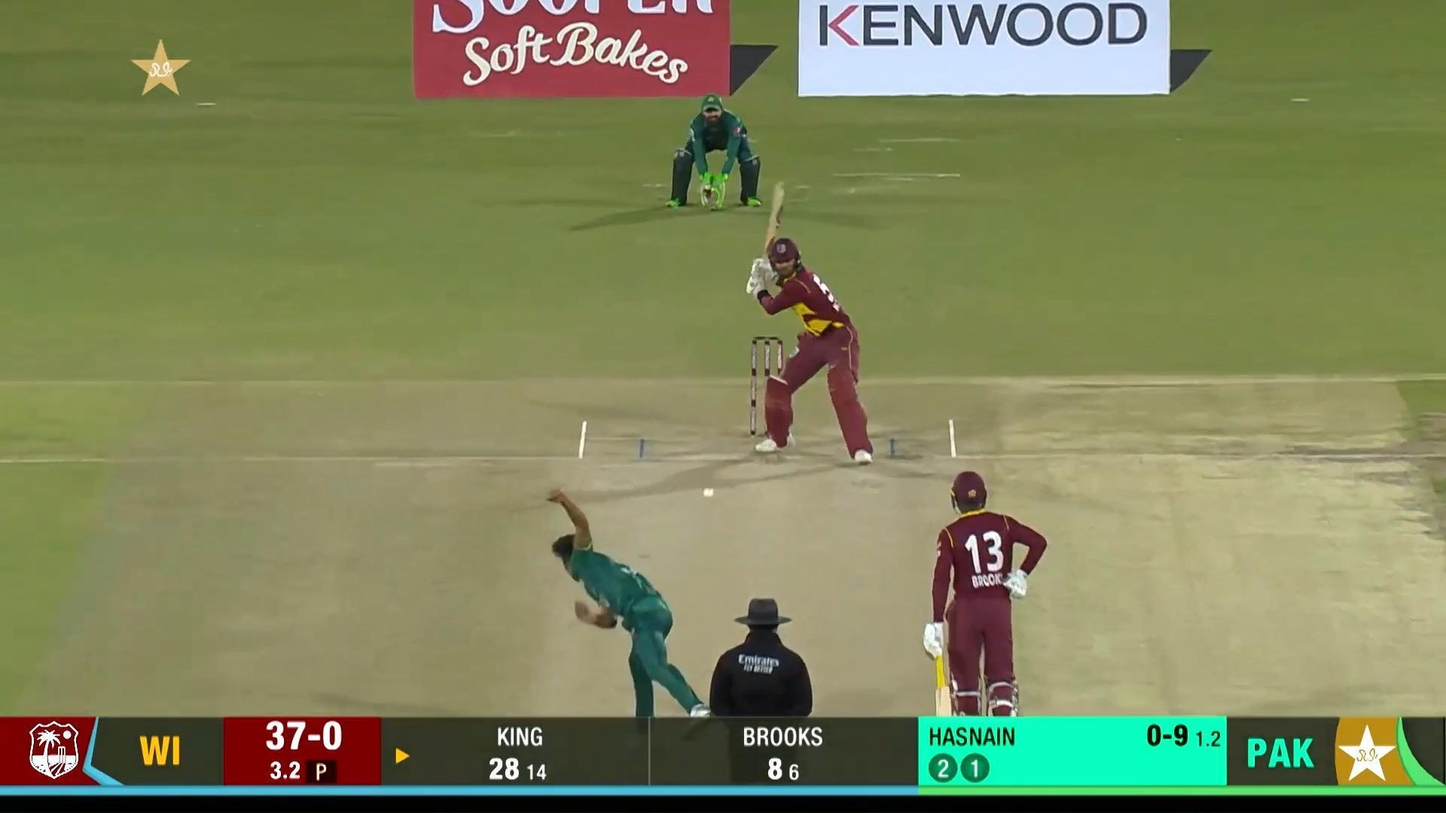BM 1: (746, 181, 874, 466)
BO: (544, 485, 710, 717)
